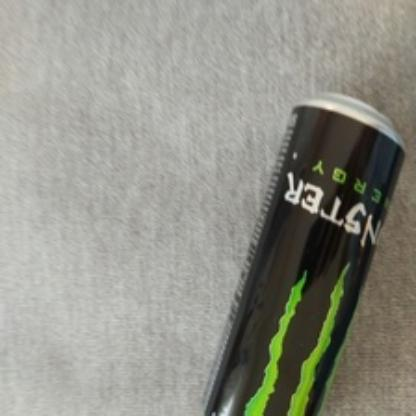Can: (199, 93, 407, 416)
